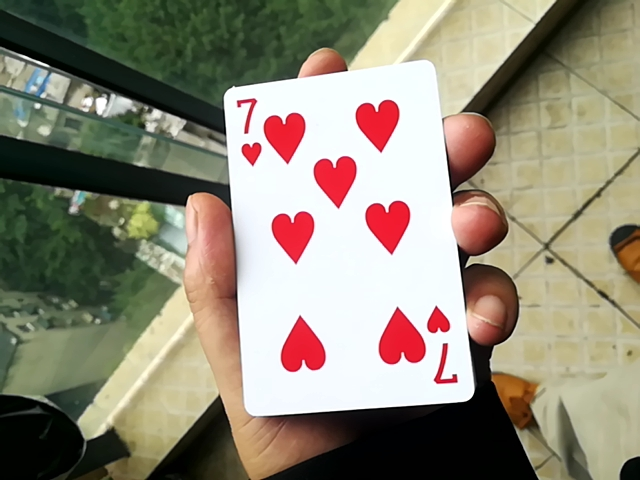hx 7: (219, 57, 470, 424)
